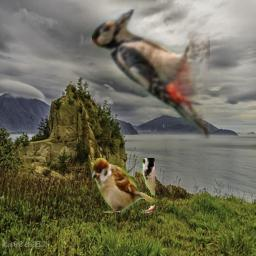Sparrow: (92, 158, 155, 213)
Woodpecker: (92, 9, 210, 139)
